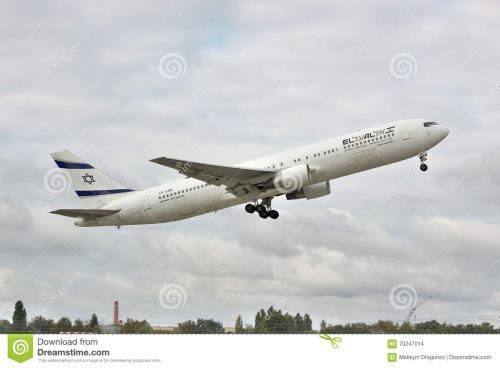airplane: (47, 114, 451, 236)
